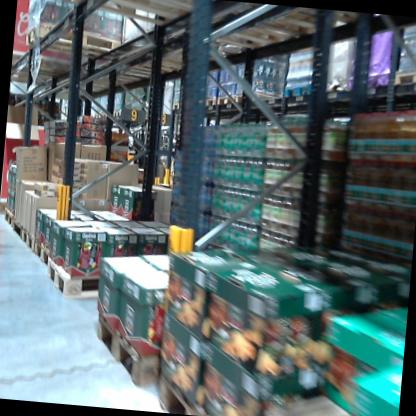pallet: (157, 365, 375, 416), (89, 309, 170, 395), (65, 0, 223, 36), (227, 2, 369, 42), (20, 18, 124, 65), (209, 15, 299, 57), (44, 257, 114, 307), (233, 83, 288, 111), (345, 70, 395, 97), (319, 73, 351, 103), (285, 80, 318, 105), (391, 65, 416, 93), (33, 240, 54, 270), (21, 227, 43, 254), (198, 89, 221, 113), (217, 88, 234, 111), (13, 217, 27, 242), (170, 97, 189, 114), (2, 208, 18, 228), (99, 110, 111, 121), (111, 110, 122, 121), (94, 112, 103, 120)
